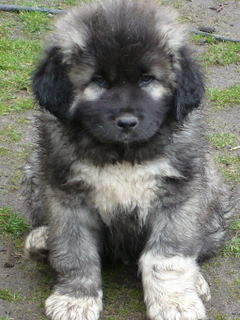cau_ovcharka: (17, 0, 233, 320)
